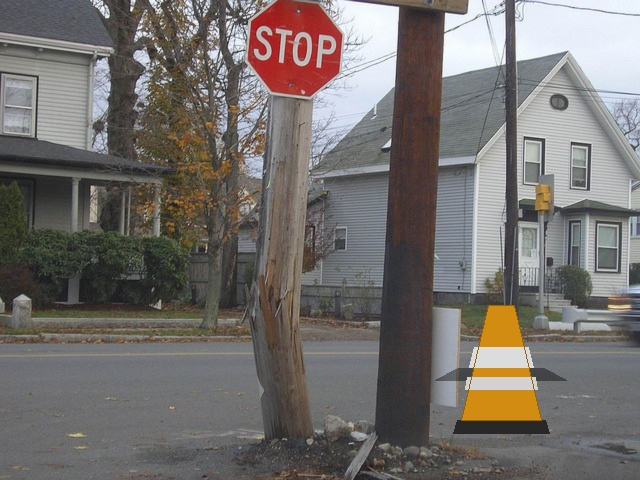traffic-cone: (453, 305, 549, 433)
